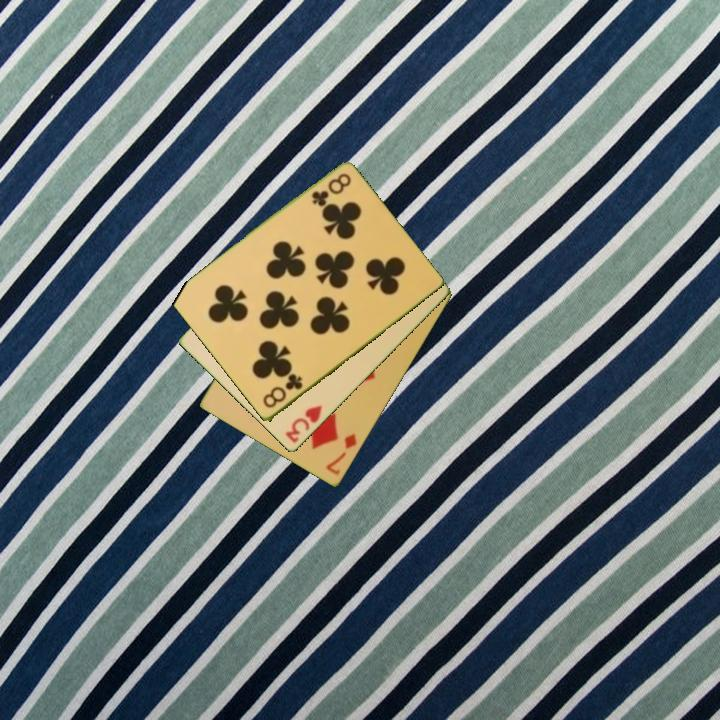3h: (282, 402, 325, 446)
7d: (322, 430, 360, 478)
8c: (259, 370, 306, 411), (308, 170, 354, 210)
